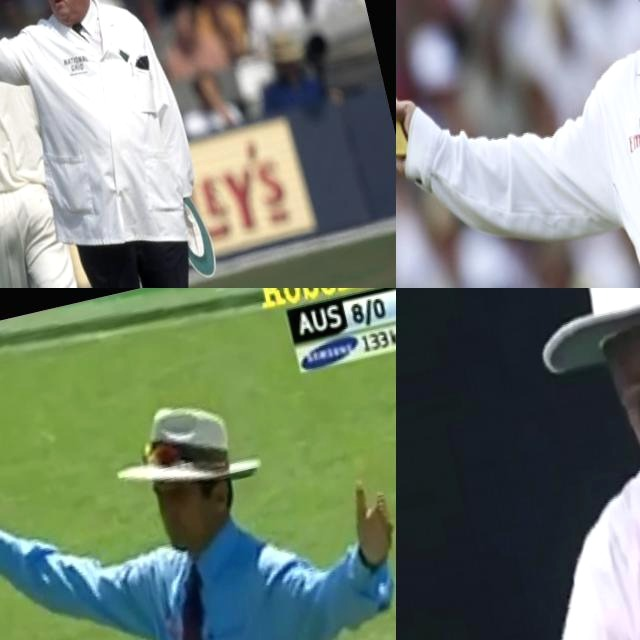No_Action: (453, 288, 640, 640)
Out: (0, 0, 266, 288)
Wide: (0, 355, 396, 640), (396, 0, 640, 288)
